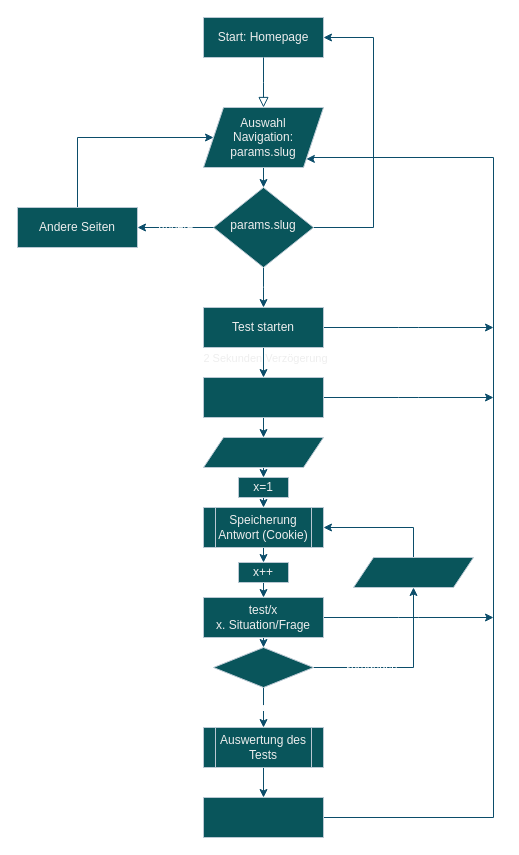
Some shapes in this 519 by 855 pixel diagram are drawn without their labels. The shapes that lost their labels are listed below. From the top down, each one's centre as x and y in pixels, then its label:
At point (263, 397): "test/1 1. Situation/Frage".
At point (263, 452): "Antwort 1".
At point (413, 572): "Antwort x".
At point (263, 667): "Frage x".
At point (263, 817): "Ende: Ergebnis".
